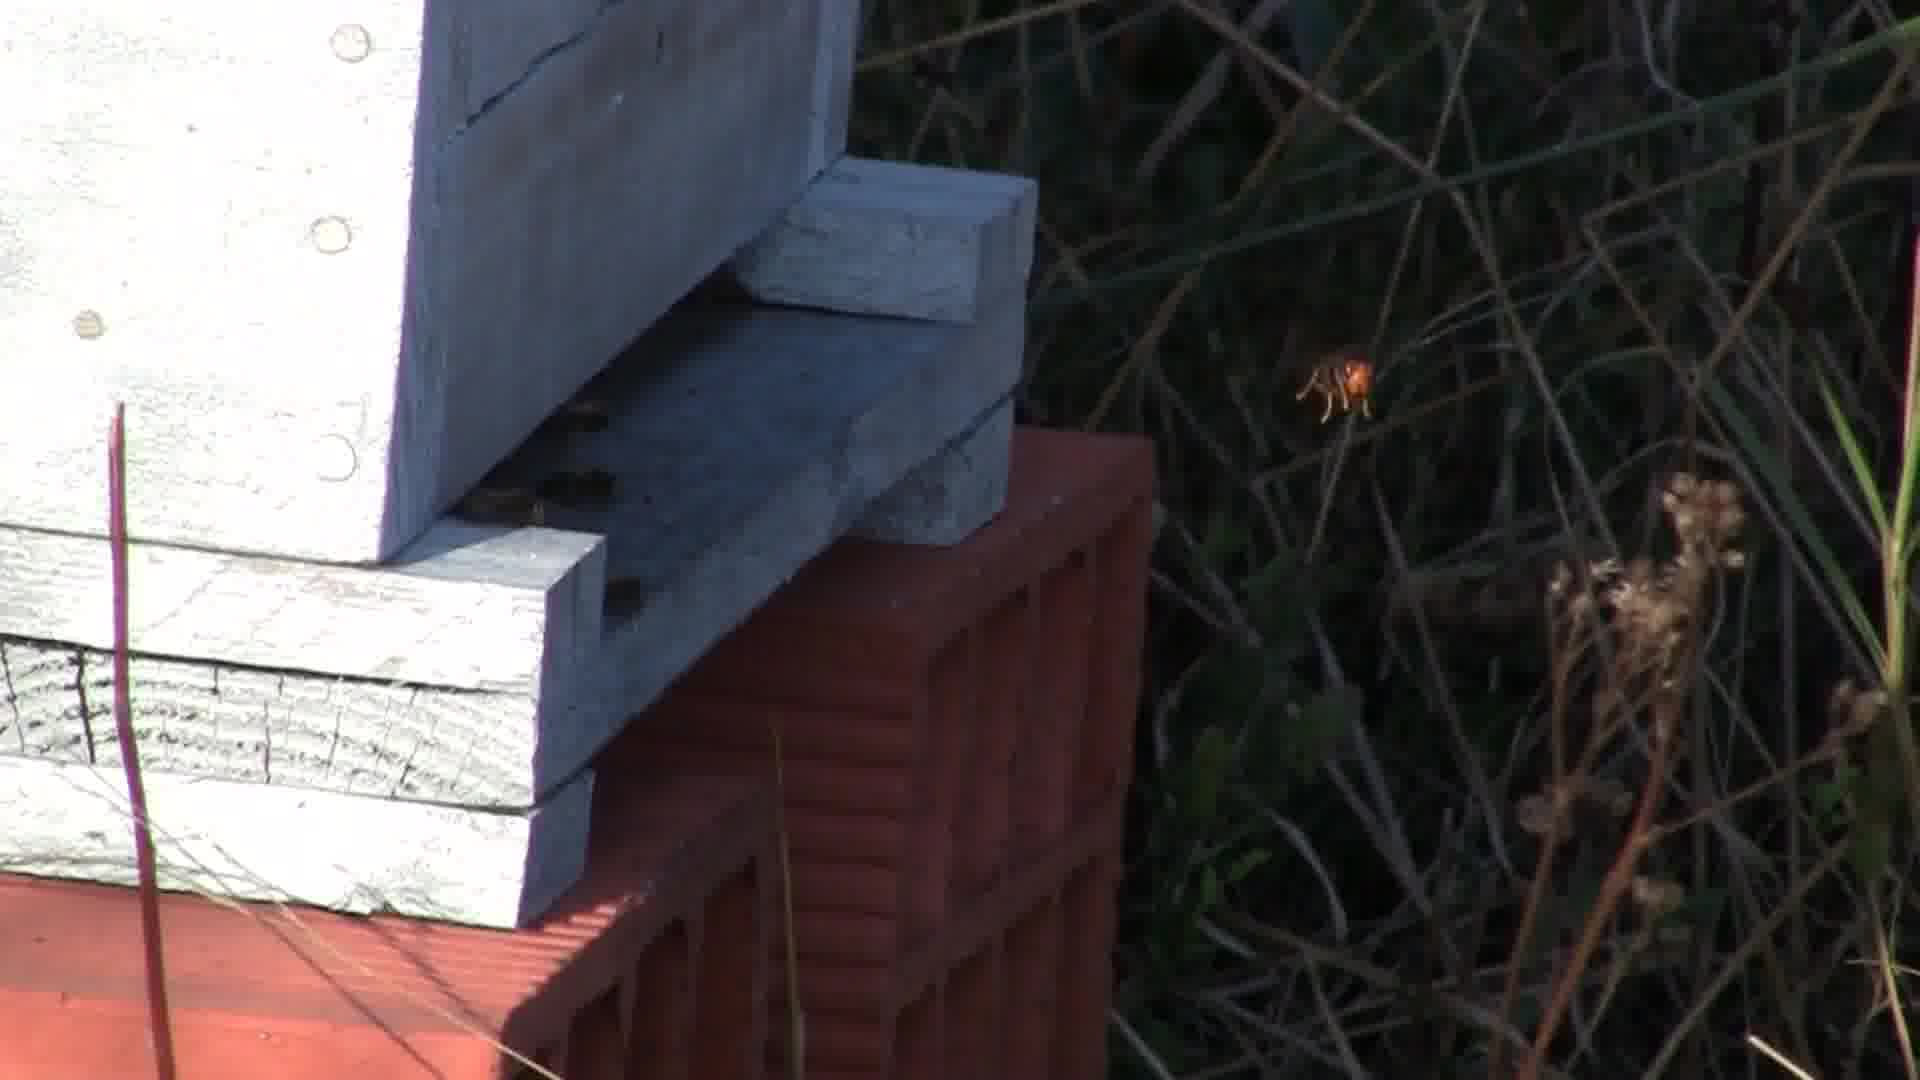hornet: (1288, 335, 1391, 429)
